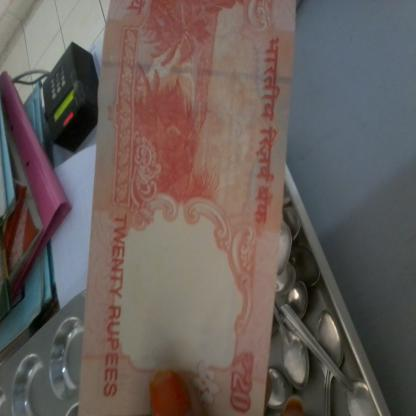Old20Back: (78, 0, 298, 416)
